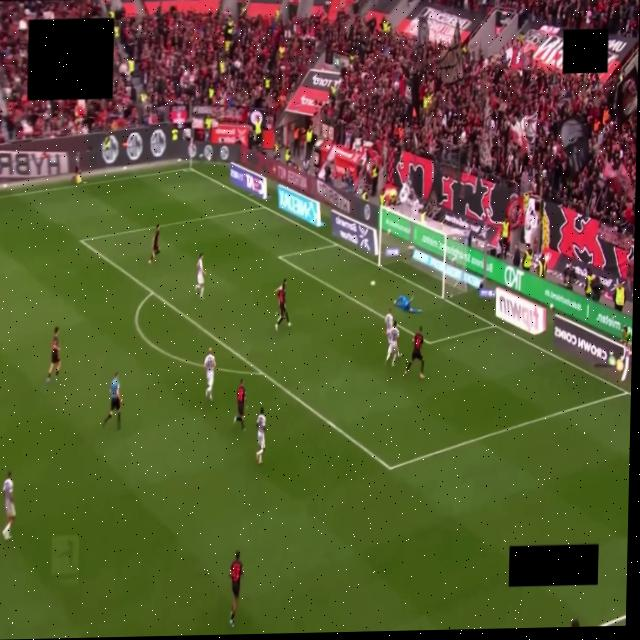ball: (370, 281, 375, 287)
player: (229, 550, 242, 627), (404, 326, 423, 378), (2, 472, 15, 540), (45, 327, 60, 382), (274, 280, 290, 330), (386, 320, 400, 366), (203, 348, 215, 401), (233, 379, 245, 430), (394, 295, 421, 314), (256, 408, 265, 464), (148, 224, 159, 264), (194, 253, 203, 298), (384, 308, 393, 343)
referee: (102, 373, 121, 429)
